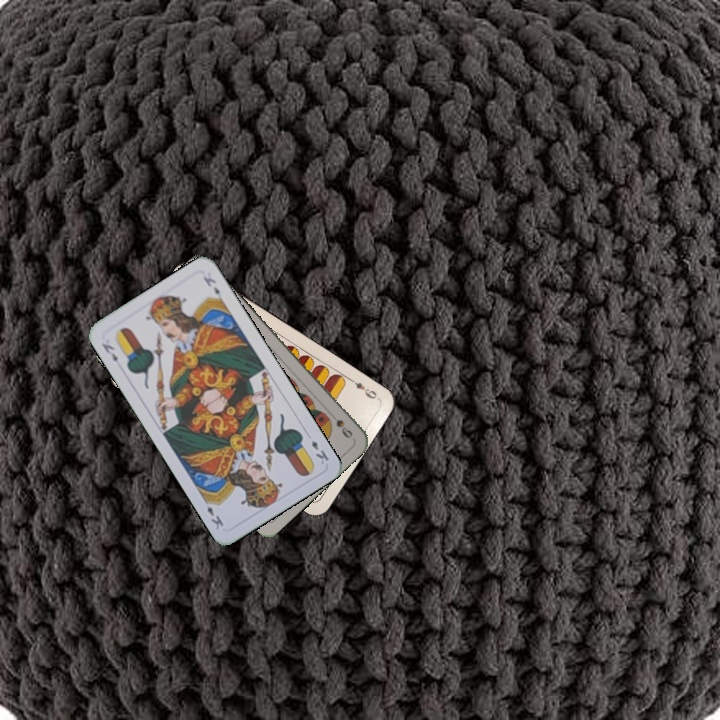E9: (345, 374, 381, 402)
EK: (307, 436, 331, 467), (97, 339, 120, 364)
S9: (324, 408, 355, 441)
